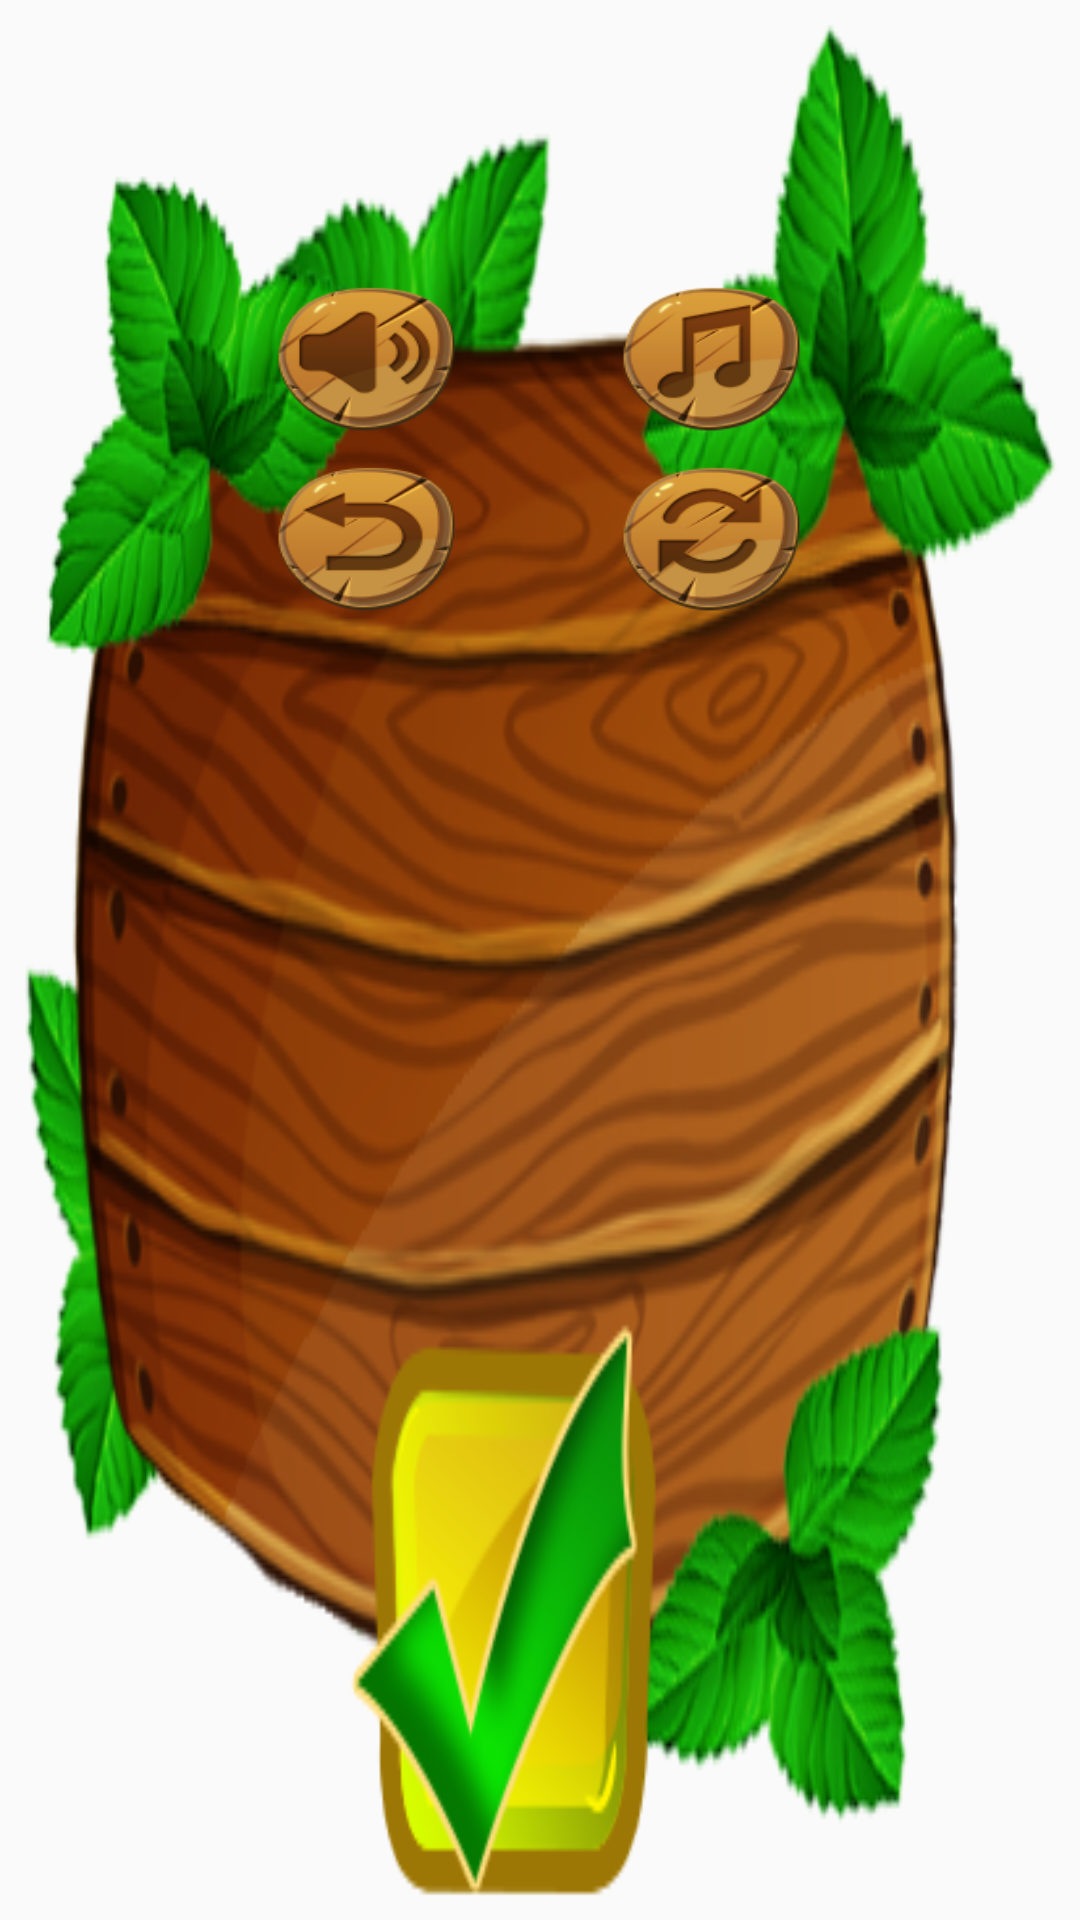

Icons on this 1080×1920 Android screen, each with the point to tap as [x,y]:
music on bt: [712,360]
quit game bt: [367,540]
restart bt: [712,540]
sound bt: [367,360]
